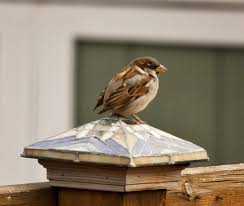hsparrow: (90, 54, 168, 132)
